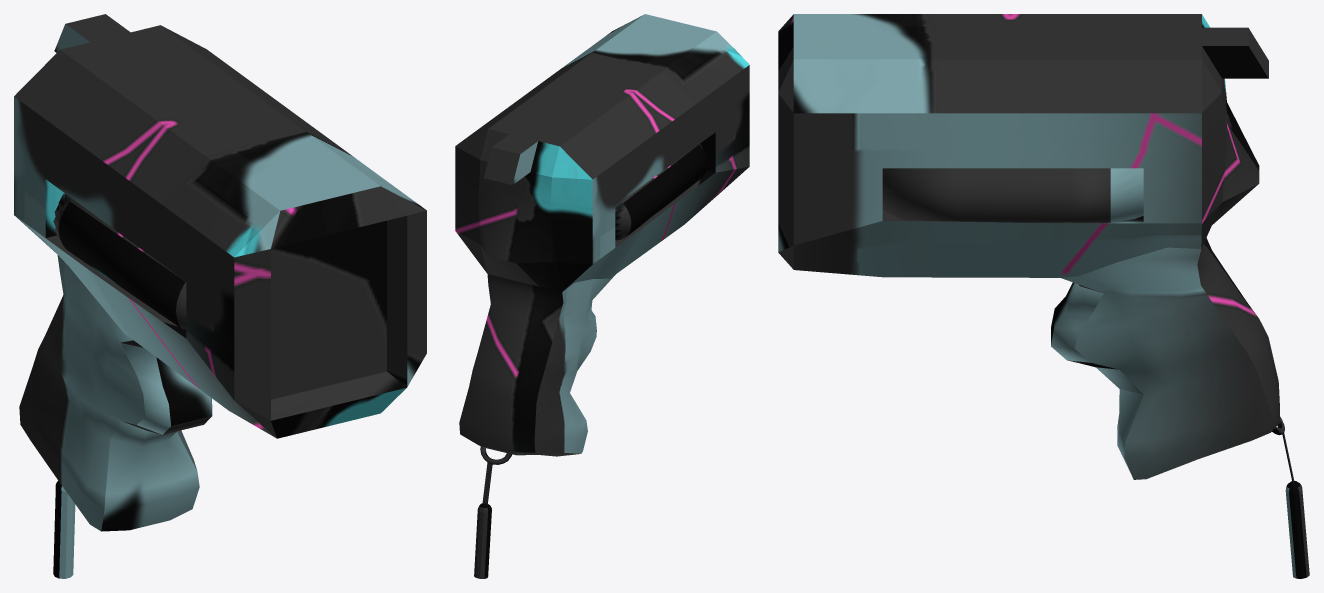
File: dio_gl.fbx
3 renders of one model, left to right at view 1: azimuth 30°, elevation 25°; view 2: azimuth 150°, elevation 25°; view 3: azimuth 270°, elevation 25°, orthographic. The views are drawn at different scales.
Visible parts, largest first — view 1: dio_gl; view 2: dio_gl; view 3: dio_gl.
Boxes of the visible parts, box(x1,y1,x2,y2) form: dio_gl: box(14, 14, 426, 578); dio_gl: box(455, 14, 749, 578); dio_gl: box(778, 14, 1309, 578).
Bounding box in the file's own units: 10.66 × 28.7 × 25.79.
1 material, 1 textured.
